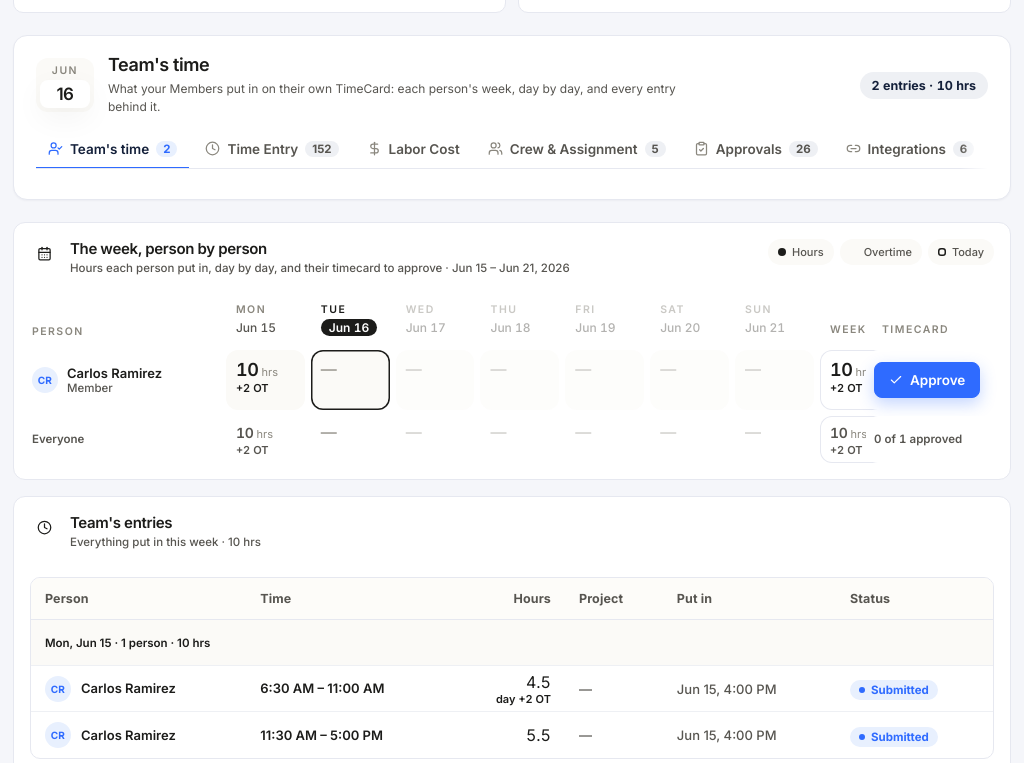
Test: approving a person's timecard › reads the week again after approving, so time put in meanwhile shows as waiting
(page scrolled)
Click the button with aria-label "Approve Carlos Ramirez's timecard" at (927, 380), box x1=874 y1=362 x2=980 y2=398
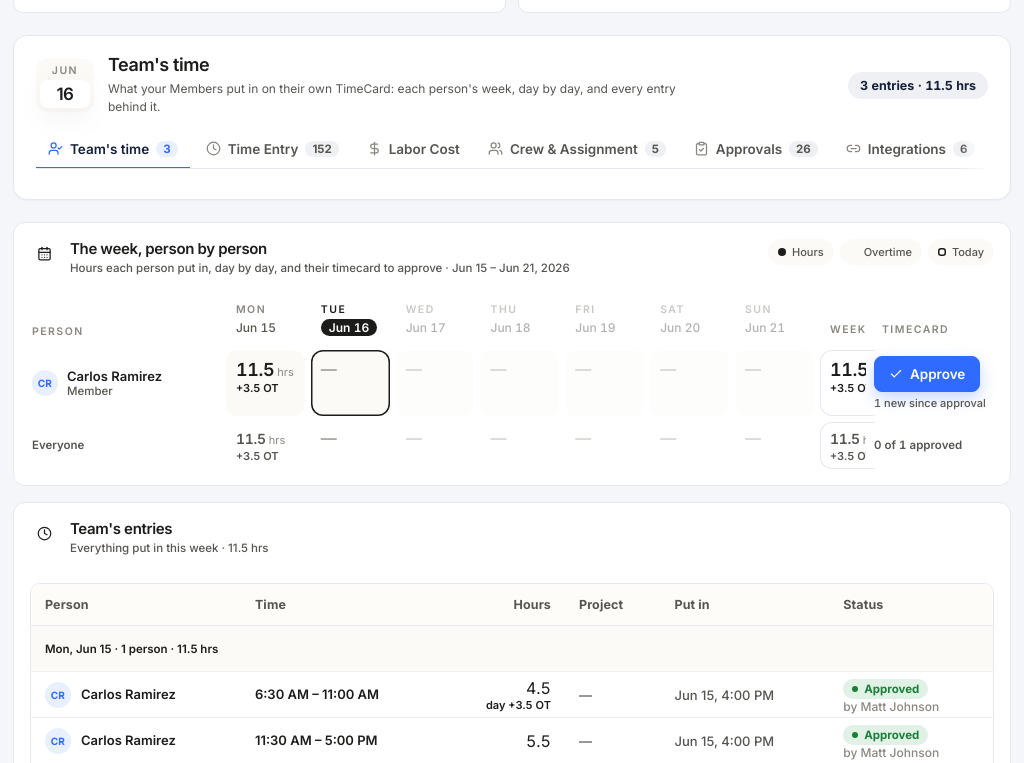
Check: the text "1 new since approval" is shown, box x1=874 y1=396 x2=998 y2=410
